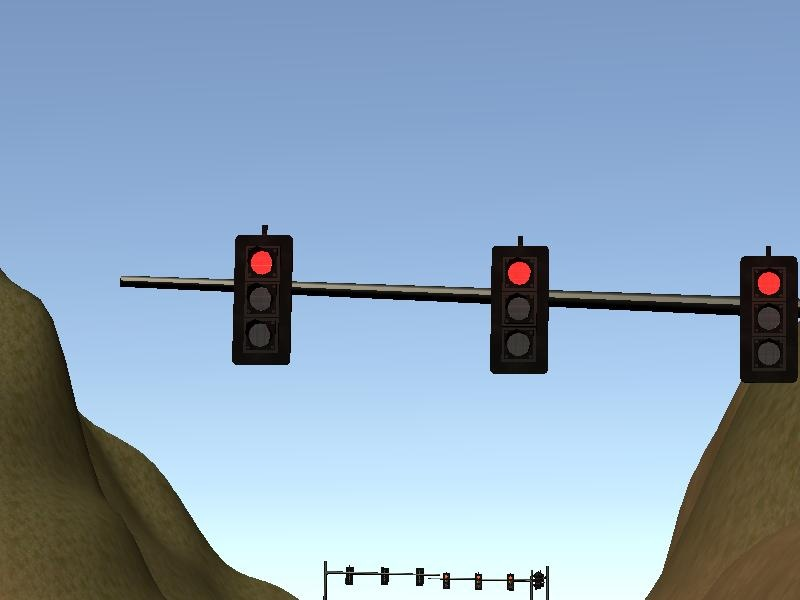RED: (229, 235, 291, 365), (739, 257, 800, 384), (489, 245, 547, 376)
